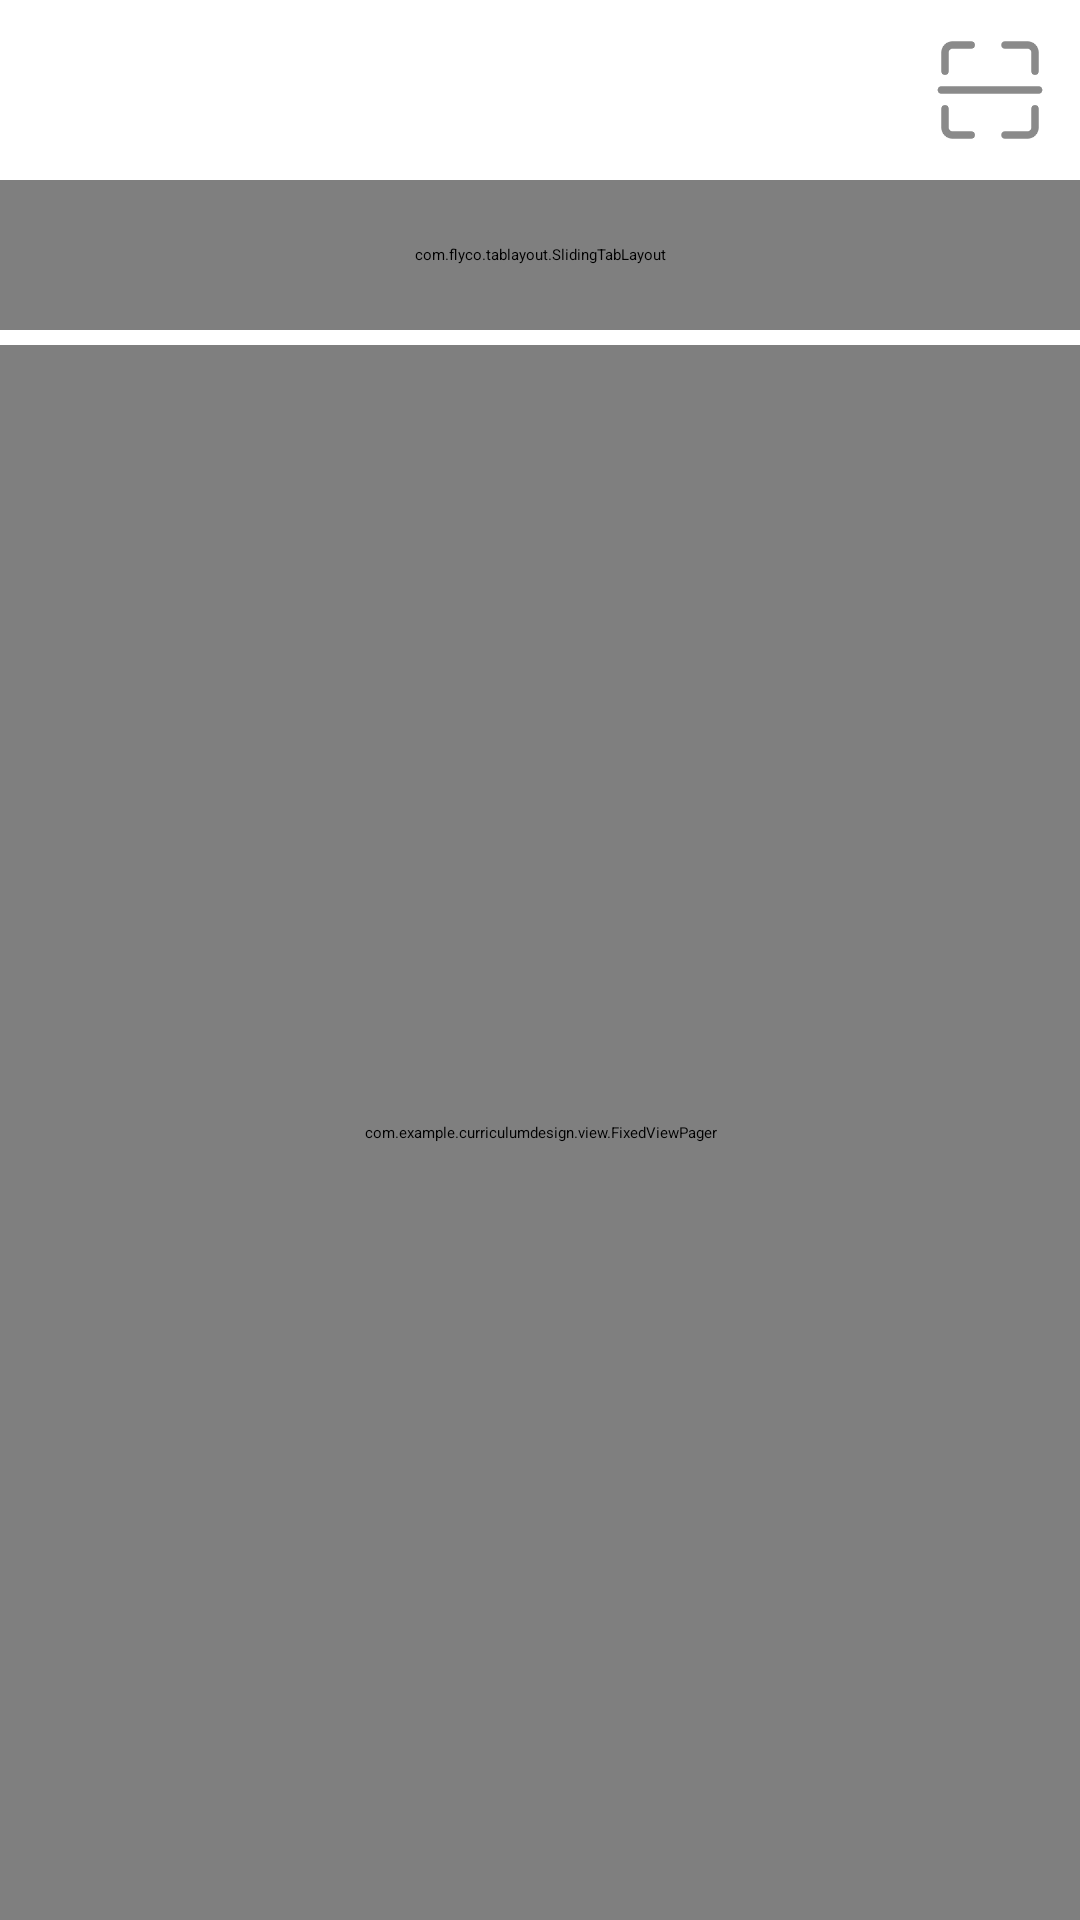

Where icons sit on this 1080w x 1920h app screen, as box(x1, y1, x2, y2):
scancode: box(937, 41, 1043, 139)
